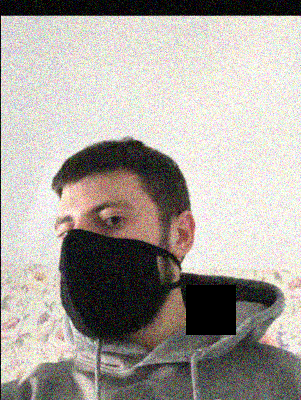with_mask: (54, 195, 164, 342)
